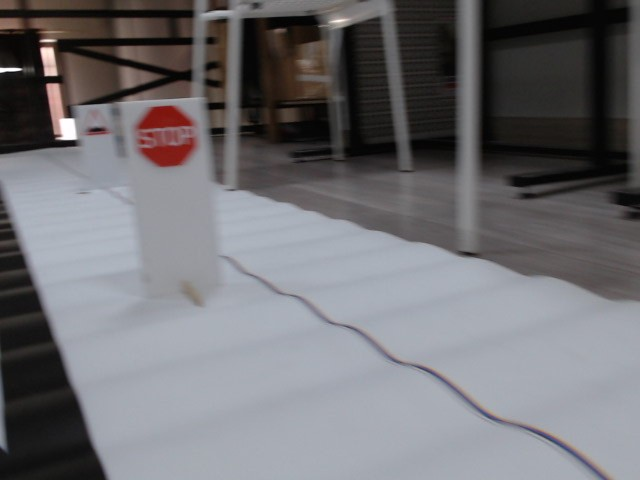Stop: (135, 105, 200, 167)
